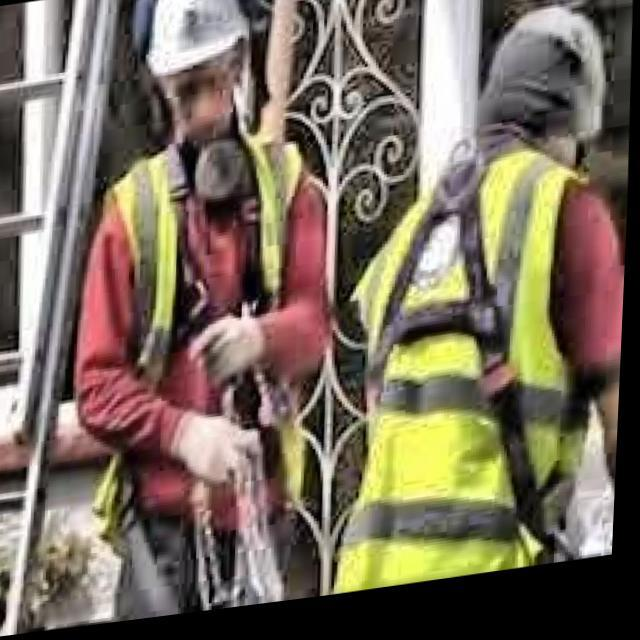belt: (329, 154, 599, 604)
